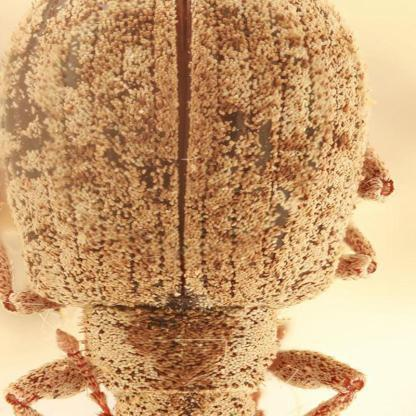rice-bug: (4, 0, 376, 416)
